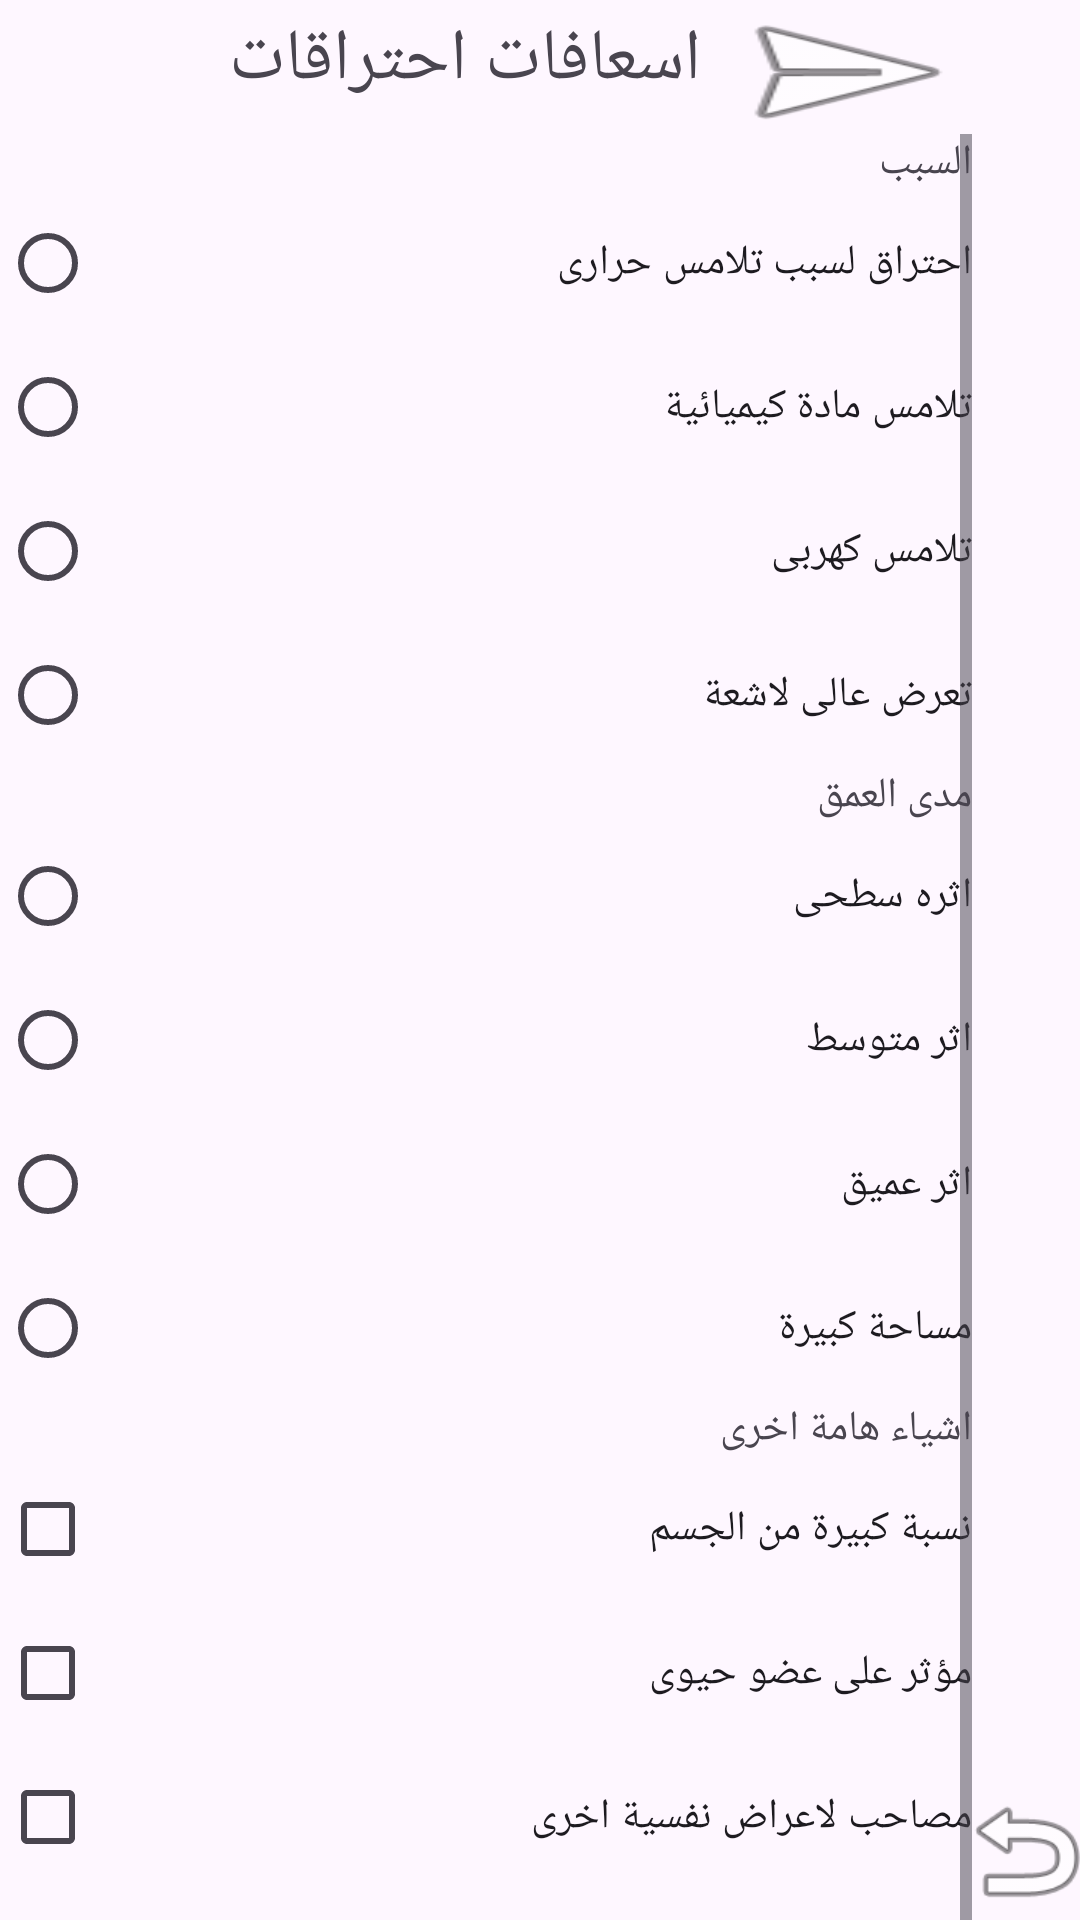

Where to tap for icons on this 1080×1920 app screen, as (x,y):
send: (848,72)
